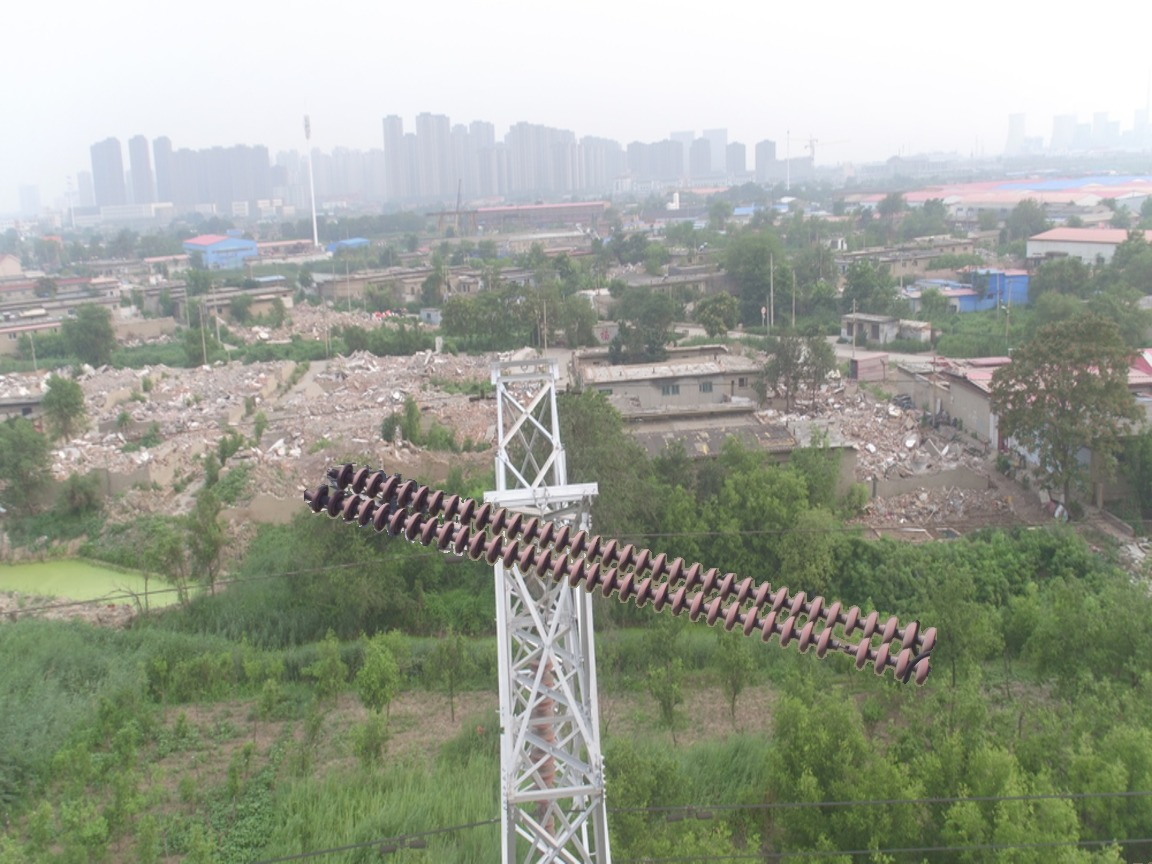defect: (812, 624, 879, 671)
